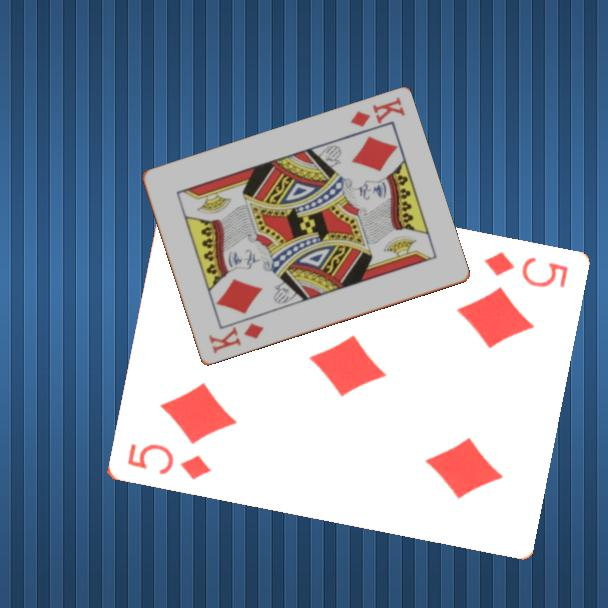d05: (123, 440, 214, 483), (480, 248, 570, 291)
d13: (205, 320, 266, 357), (346, 94, 408, 130)
